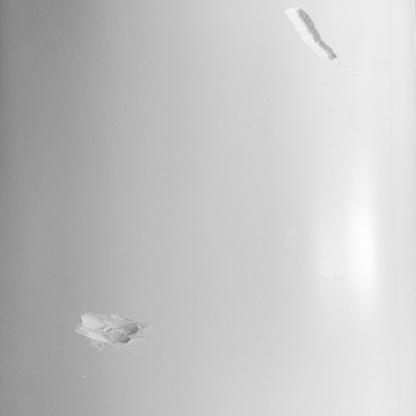sunshang: (285, 7, 343, 63), (74, 312, 146, 350)
